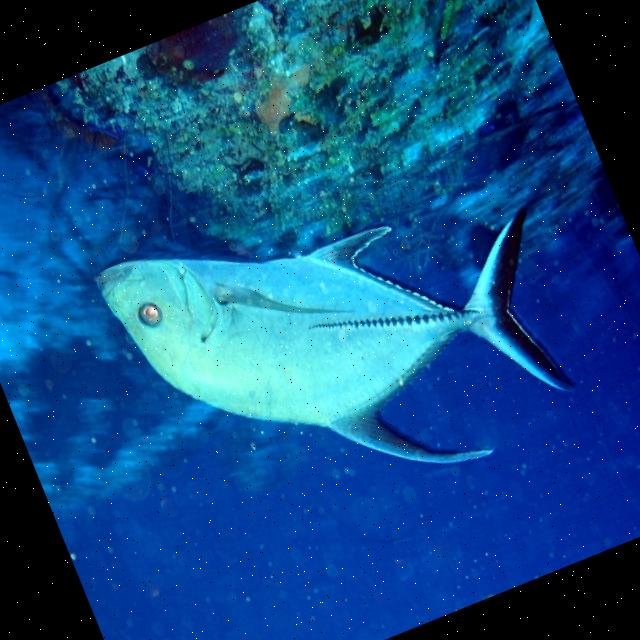ikan: (90, 110, 610, 570)
